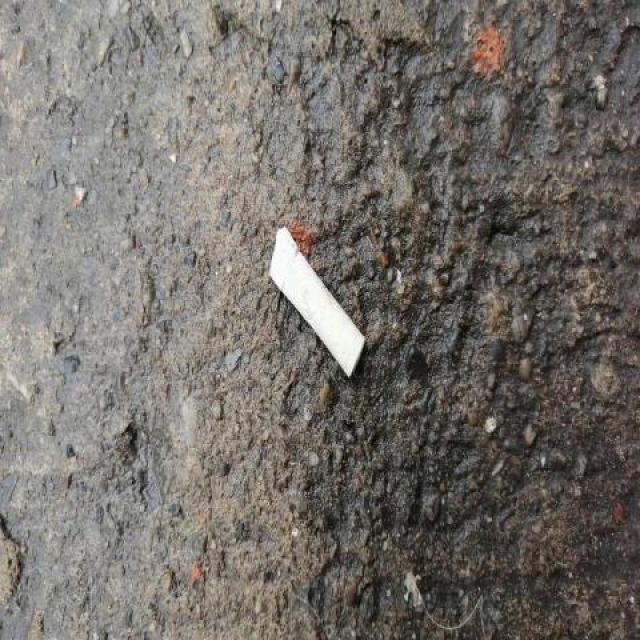non-organic waste: (264, 224, 371, 384)
